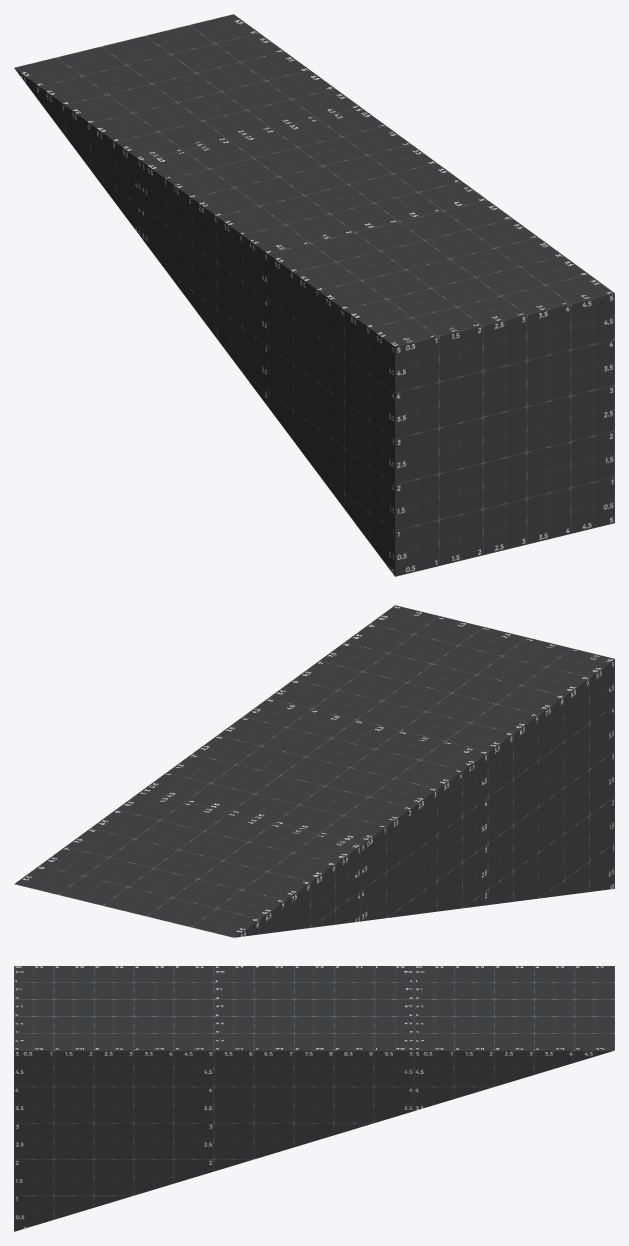
The model's file is WedgeCeiling_15.fbx.
The picture shows the model from 3 angles, top to bottom: view 1: azimuth 30°, elevation 25°; view 2: azimuth 150°, elevation 25°; view 3: azimuth 270°, elevation 25°; orthographic projection. The views are drawn at different scales.
Visible parts, largest first — view 1: WedgeCeiling_15; view 2: WedgeCeiling_15; view 3: WedgeCeiling_15.
Boxes of the visible parts, x1,y1,x2,y2 form: WedgeCeiling_15: (14,14,614,576); WedgeCeiling_15: (14,605,614,937); WedgeCeiling_15: (14,966,614,1231).
Size of the model in its own units: 5 by 5 by 15.02.
